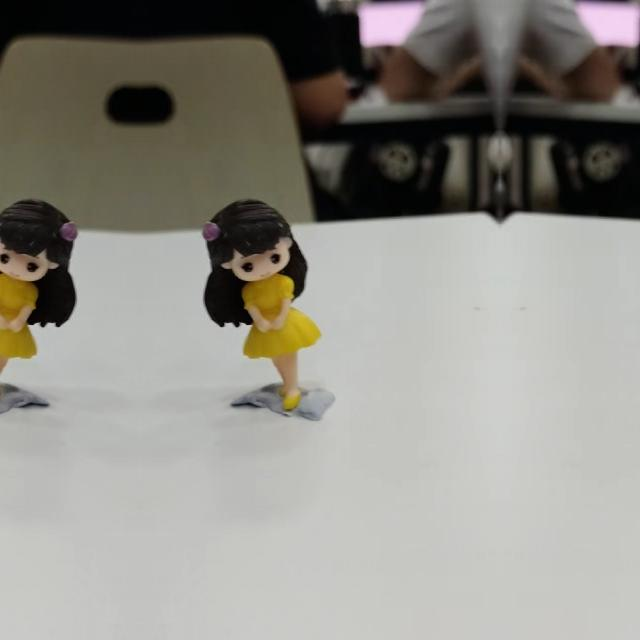woman head: (198, 195, 294, 283), (0, 195, 81, 283)
